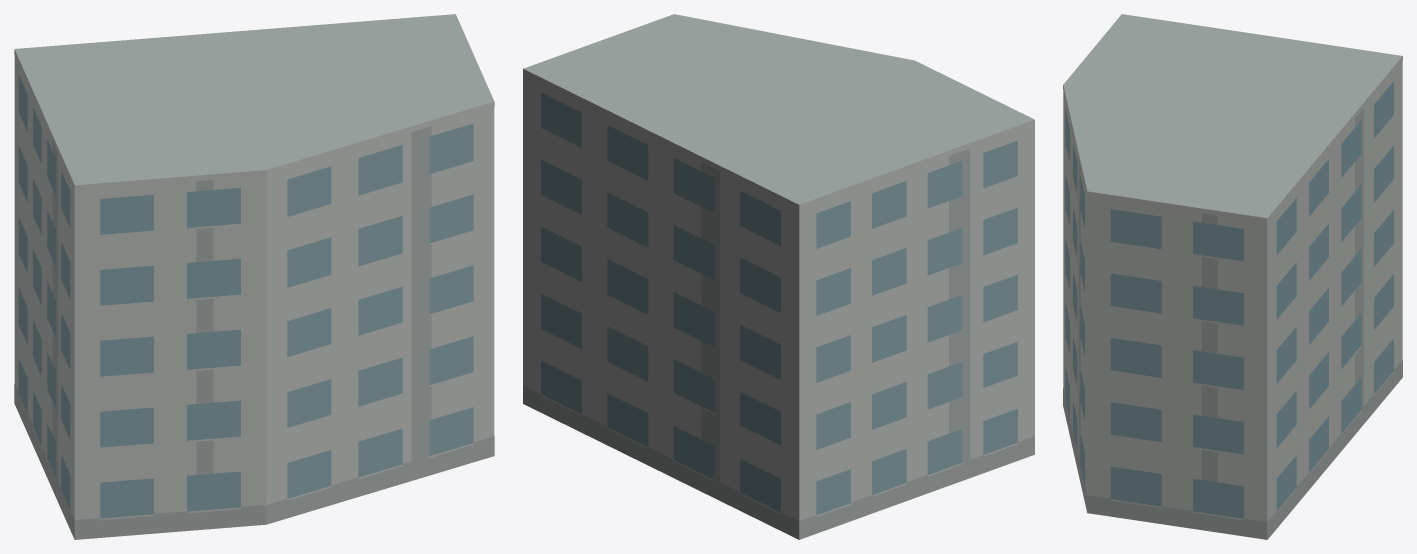
The model's file is residential-6a0babfb-5c67-46a6-96ef-ef94fe8f3787.glb.
3 views of the same model, side by side, from view 1: azimuth 30°, elevation 25°; view 2: azimuth 150°, elevation 25°; view 3: azimuth 270°, elevation 25° (orthographic). The views are drawn at different scales.
Visible parts, largest first — view 1: residential-6a0babfb-5c67-46a6-96ef-ef94fe8f3787.tmp; view 2: residential-6a0babfb-5c67-46a6-96ef-ef94fe8f3787.tmp; view 3: residential-6a0babfb-5c67-46a6-96ef-ef94fe8f3787.tmp.
Boxes of the visible parts, x1,y1,x2,y2 form: residential-6a0babfb-5c67-46a6-96ef-ef94fe8f3787.tmp: (14,14,494,539); residential-6a0babfb-5c67-46a6-96ef-ef94fe8f3787.tmp: (523,14,1034,539); residential-6a0babfb-5c67-46a6-96ef-ef94fe8f3787.tmp: (1063,14,1402,539).
Bounding box in the file's own units: 20.77 × 15.25 × 14.59.
